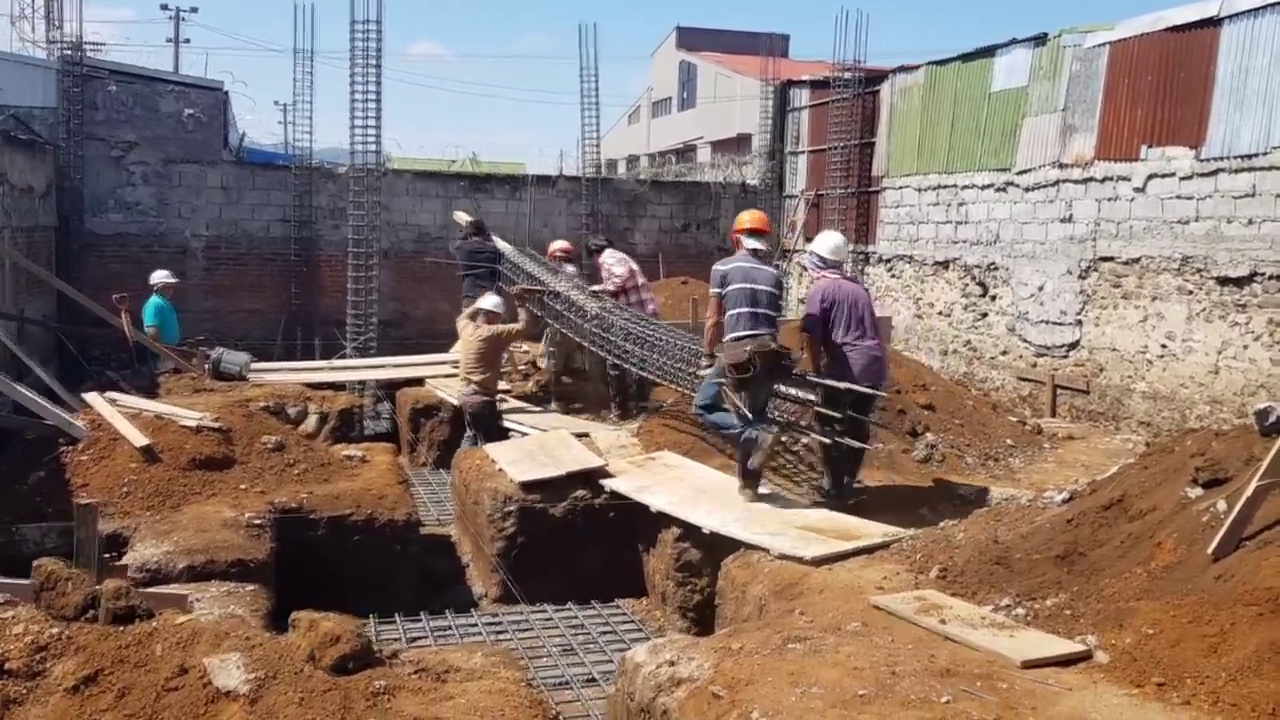helmet: (805, 228, 855, 263), (726, 209, 774, 243), (475, 292, 507, 315), (550, 241, 580, 264), (148, 271, 179, 291)
helmet-off: (588, 240, 619, 263), (465, 220, 492, 244)
helmet-on: (725, 204, 775, 260), (806, 228, 855, 283), (546, 240, 582, 274), (473, 293, 509, 326), (148, 271, 179, 302)
person: (700, 200, 804, 502), (792, 224, 882, 518), (587, 239, 658, 426), (455, 292, 528, 447), (528, 240, 589, 402), (449, 220, 507, 310), (139, 269, 182, 345)
